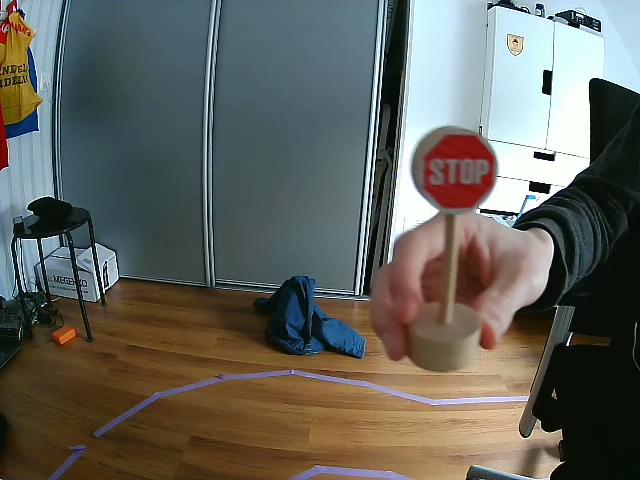stopbord: (418, 127, 499, 214)
